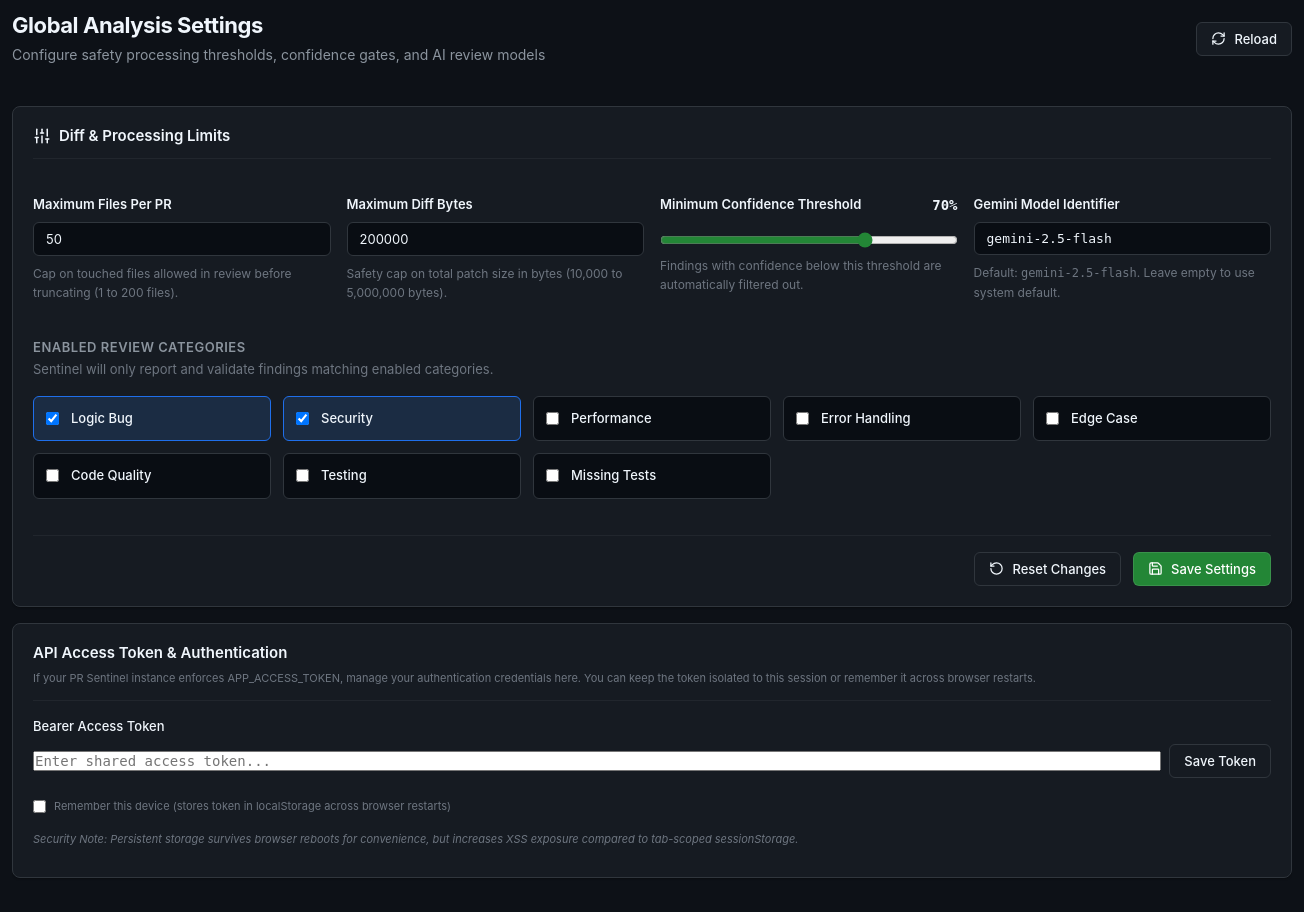
Test: Settings Page › saves token with remember-device option and persists across browser restart simulation
Later steps or results of the test are not shown.
expect the number field showing "50" is shown: met, box top-left (33, 222), bottom-right (330, 256)
Type "settings-secret-token-789" into the password field with placeholder "Enter shared access token..." at coordinates (597, 761), box top-left (33, 751), bottom-right (1161, 771)
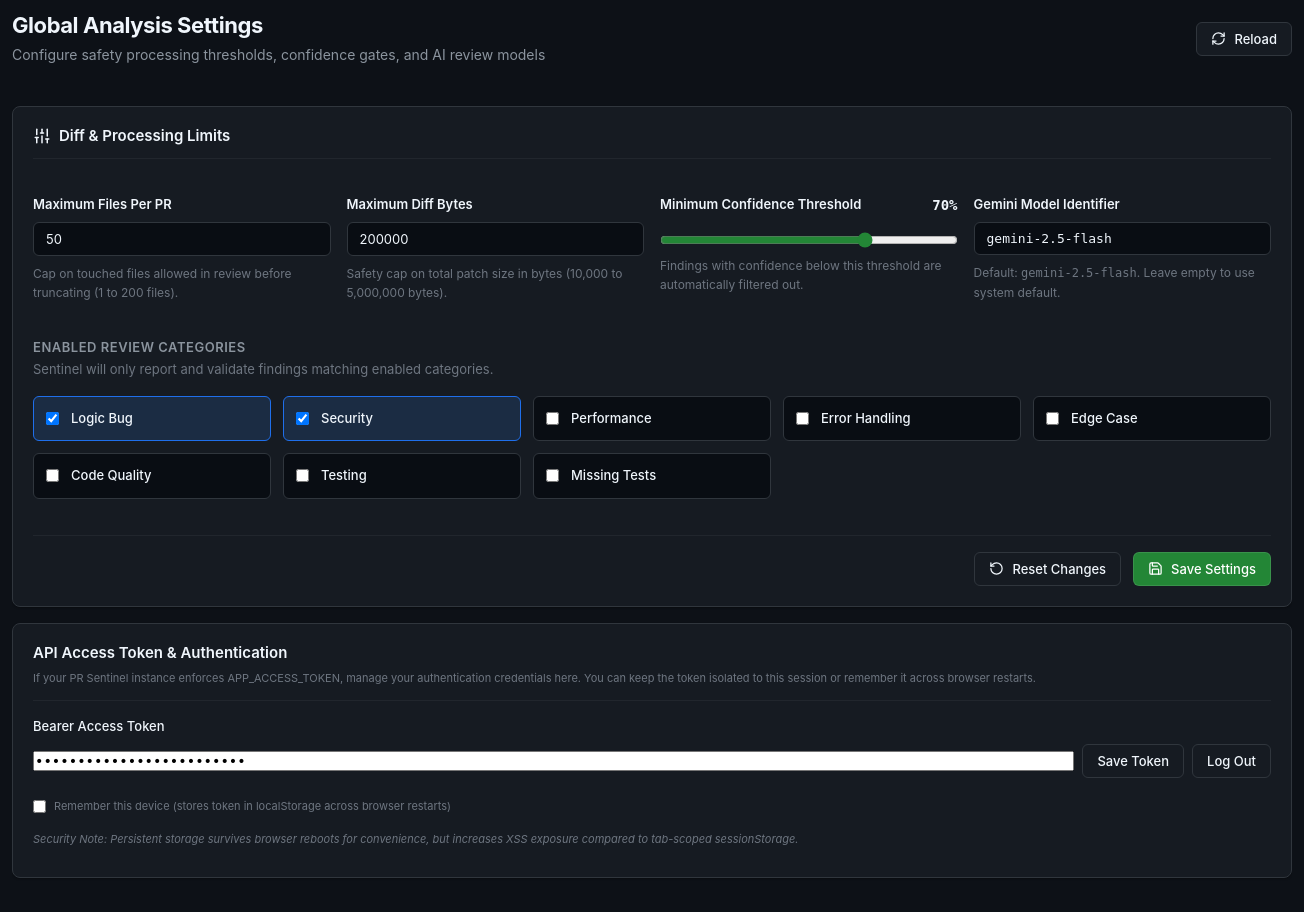
Click the checkbox with test id "settings-remember-device-checkbox" at coordinates (40, 807), box top-left (33, 800), bottom-right (46, 813)
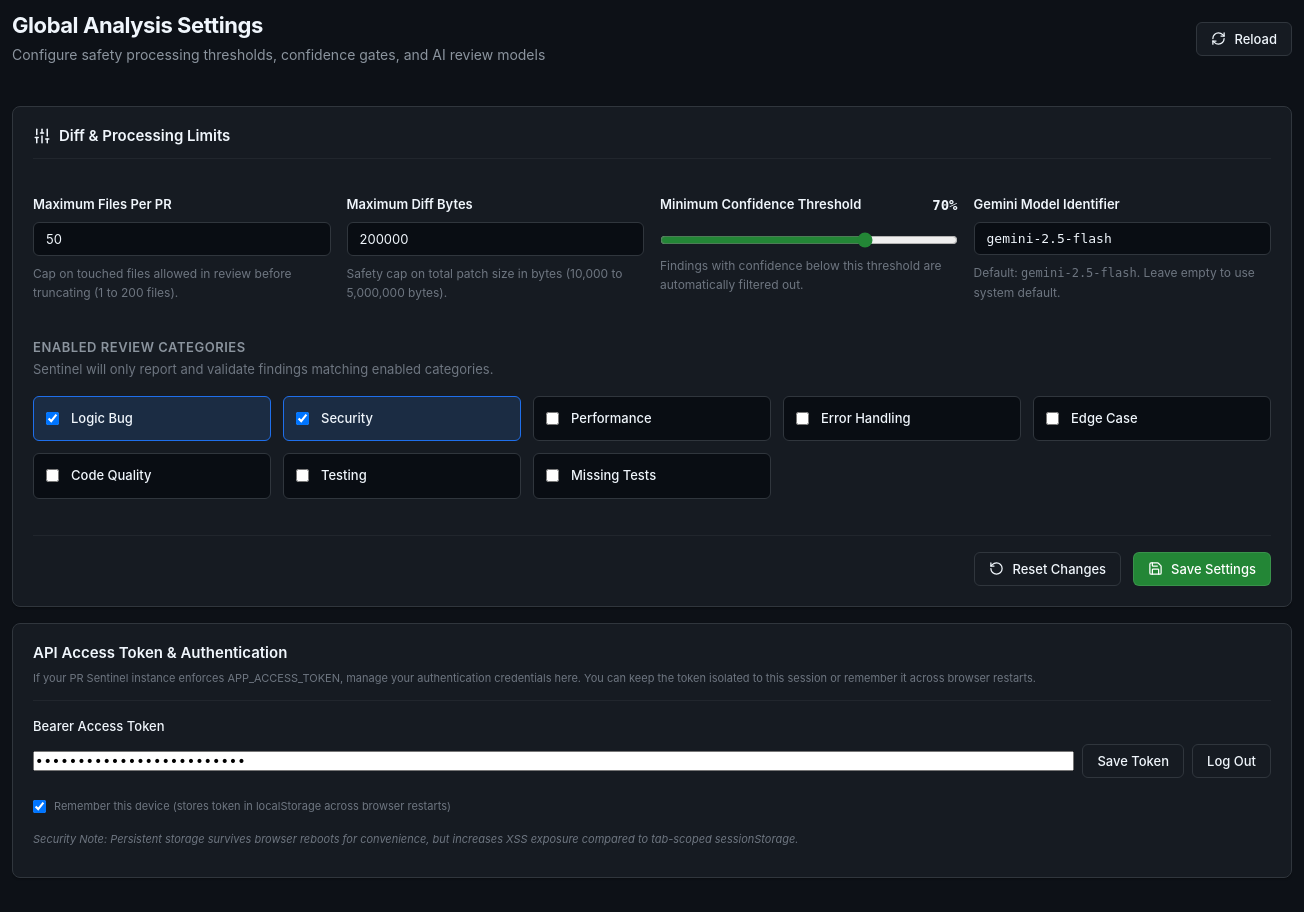
expect the checkbox with test id "settings-remember-device-checkbox" is checked: met, box top-left (33, 800), bottom-right (46, 813)
